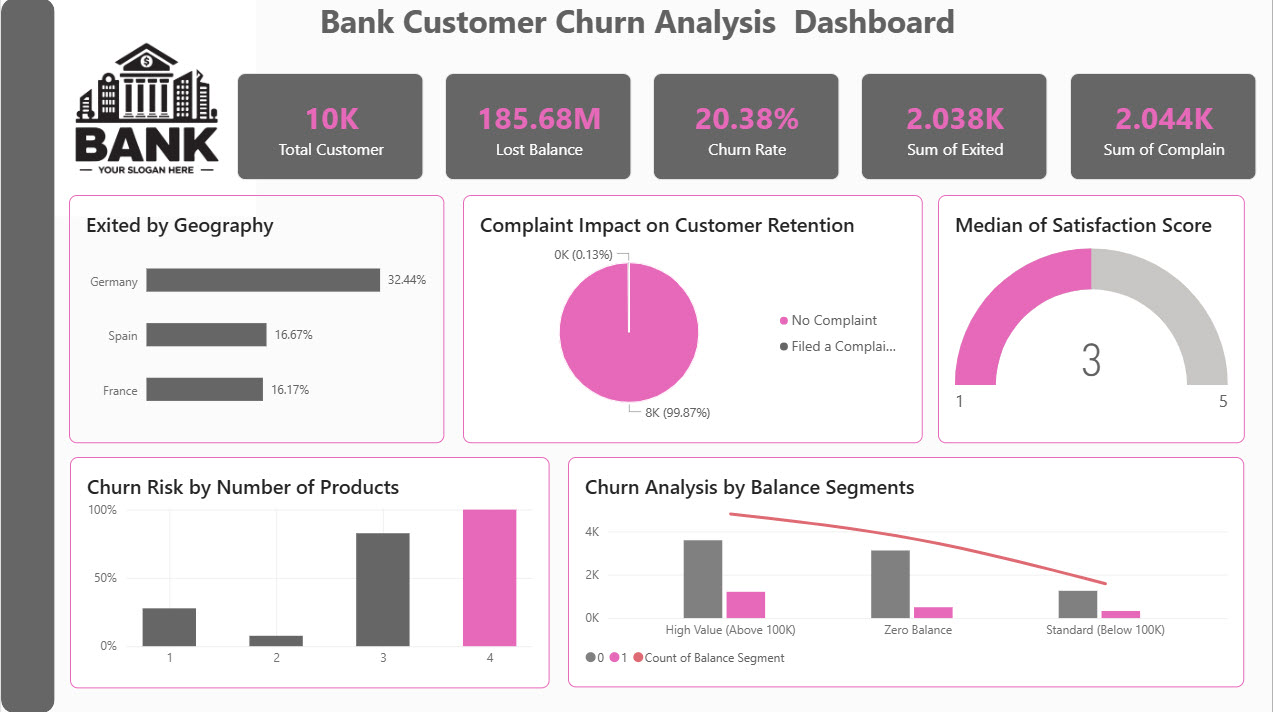

Layout of this report page (visuals, bound fields, positions):
{"tool":"powerbi","page":{"name":"Page 1","canvas":[1280,720],"ordinal":0},"visuals":[{"type":"image","box":[23.3,2.2,247.8,217.8],"z":0},{"type":"shape","box":[0,0,54.1,720.5],"z":1000},{"type":"cardVisual","fields":{"Data":["Customer.Records.Churn Rate"]},"box":[656.8,75.6,188,108.9],"z":2000},{"type":"cardVisual","fields":{"Data":["Customer.Records.Lost Balance"]},"box":[447.1,75.6,188,108.9],"z":3000},{"type":"cardVisual","fields":{"Data":["CountNonNull(Customer.Records.CustomerId)"]},"box":[237.3,75.6,188,108.9],"z":4000},{"type":"cardVisual","fields":{"Data":["Sum(Customer.Records.Exited)"]},"box":[866.5,75.6,188,108.9],"z":5000},{"type":"barChart","title":"Exited by Geography","fields":{"Category":["Customer.Records.Geography"],"Y":["Customer.Records.Churn Rate"]},"box":[68.9,198.9,377.8,250],"z":6000},{"type":"clusteredColumnChart","title":"Churn Risk by Number of Products","fields":{"Category":["Customer.Records.NumOfProducts"],"Y":["Customer.Records.Churn Rate"]},"box":[69.3,462.7,482.6,232.5],"z":7000},{"type":"pieChart","title":"Complaint Impact on Customer Retention","fields":{"Category":["Customer.Records.Complaint Status"],"Y":["Customer.Records.Total Customers"]},"box":[465.6,198.9,463.3,250],"z":8000},{"type":"cardVisual","fields":{"Data":["Sum(Customer.Records.Complain)"]},"box":[1076.2,75.6,188,108.9],"z":9000},{"type":"textbox","box":[206,0,869,52],"z":10000},{"type":"lineClusteredColumnComboChart","title":"Churn Analysis by Balance Segments","fields":{"Category":["Customer.Records.Balance Segment"],"Series":["Customer.Records.Exited"],"Y":["CountNonNull(Customer.Records.CustomerId)"],"Y2":["CountNonNull(Customer.Records.Balance Segment)"]},"box":[571.1,462.2,681.1,232.2],"z":10001},{"type":"gauge","fields":{"Y":["Median(Customer.Records.Satisfaction Score)"]},"box":[943.3,198.9,308.9,250],"z":10002}]}

Visuals, with their boxes in screenshot pixels (x1, y1, x2, y2), scaled from the page's 1280x720 canvas onto the 1273x712 screenshot:
image: bbox=[23, 2, 270, 218]
shape: bbox=[0, 0, 54, 711]
cardVisual - Customer.Records.Churn Rate: bbox=[653, 75, 840, 182]
cardVisual - Customer.Records.Lost Balance: bbox=[445, 75, 632, 182]
cardVisual - CountNonNull(Customer.Records.CustomerId): bbox=[236, 75, 423, 182]
cardVisual - Sum(Customer.Records.Exited): bbox=[862, 75, 1049, 182]
"Exited by Geography" barChart: bbox=[69, 197, 444, 444]
"Churn Risk by Number of Products" clusteredColumnChart: bbox=[69, 458, 549, 687]
"Complaint Impact on Customer Retention" pieChart: bbox=[463, 197, 924, 444]
cardVisual - Sum(Customer.Records.Complain): bbox=[1070, 75, 1257, 182]
textbox: bbox=[205, 0, 1069, 51]
"Churn Analysis by Balance Segments" lineClusteredColumnComboChart: bbox=[568, 457, 1245, 687]
gauge - Median(Customer.Records.Satisfaction Score): bbox=[938, 197, 1245, 444]
